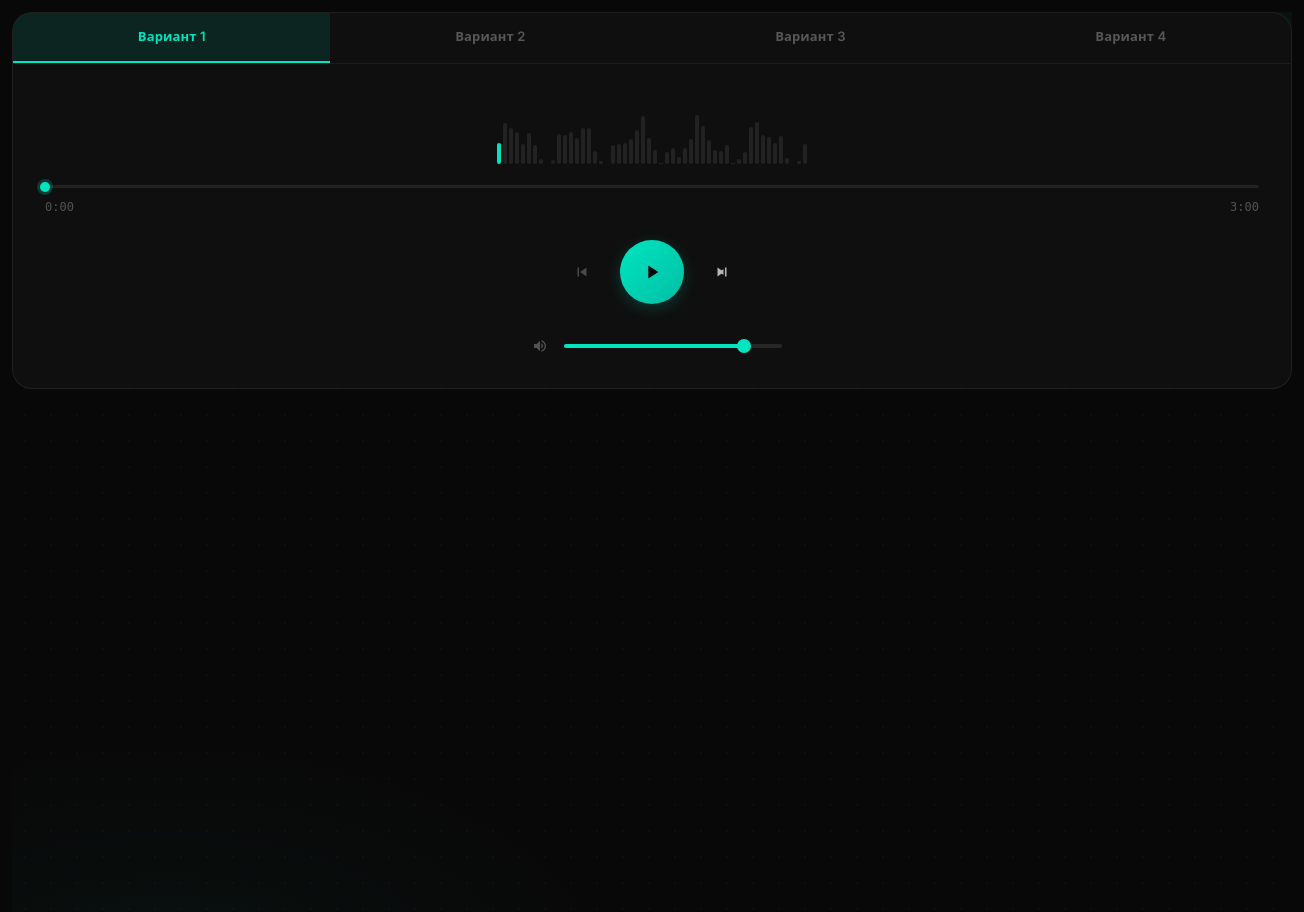
Scenario: MusicPlayer › переключает play/pause по кнопке воспроизведения
Click the button named "Воспроизвести" at (652,272), box left=620, top=240, right=684, bottom=304
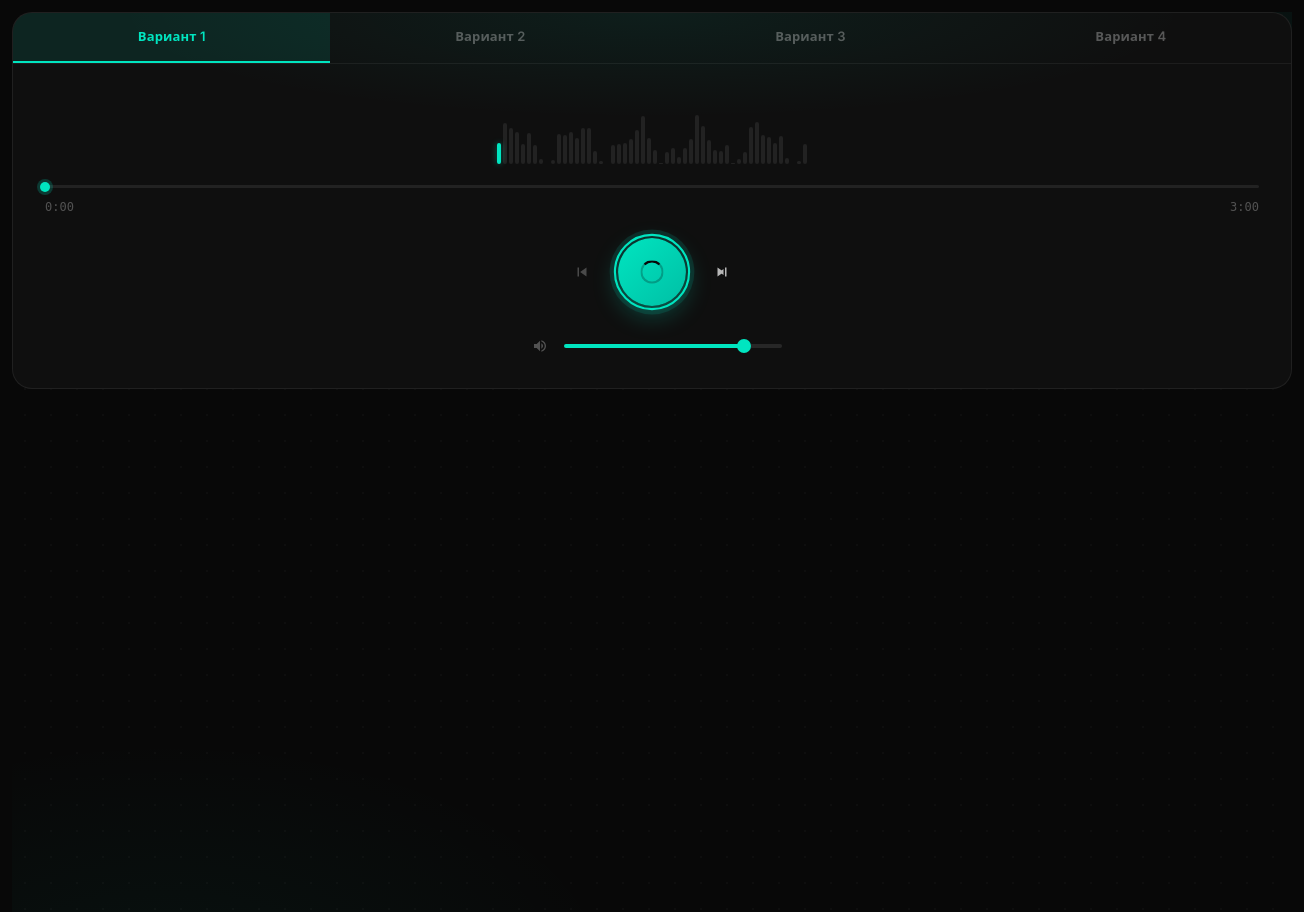
Check: the button named "Пауза" is shown
Click the button named "Пауза" at (652,272), box left=618, top=238, right=686, bottom=305
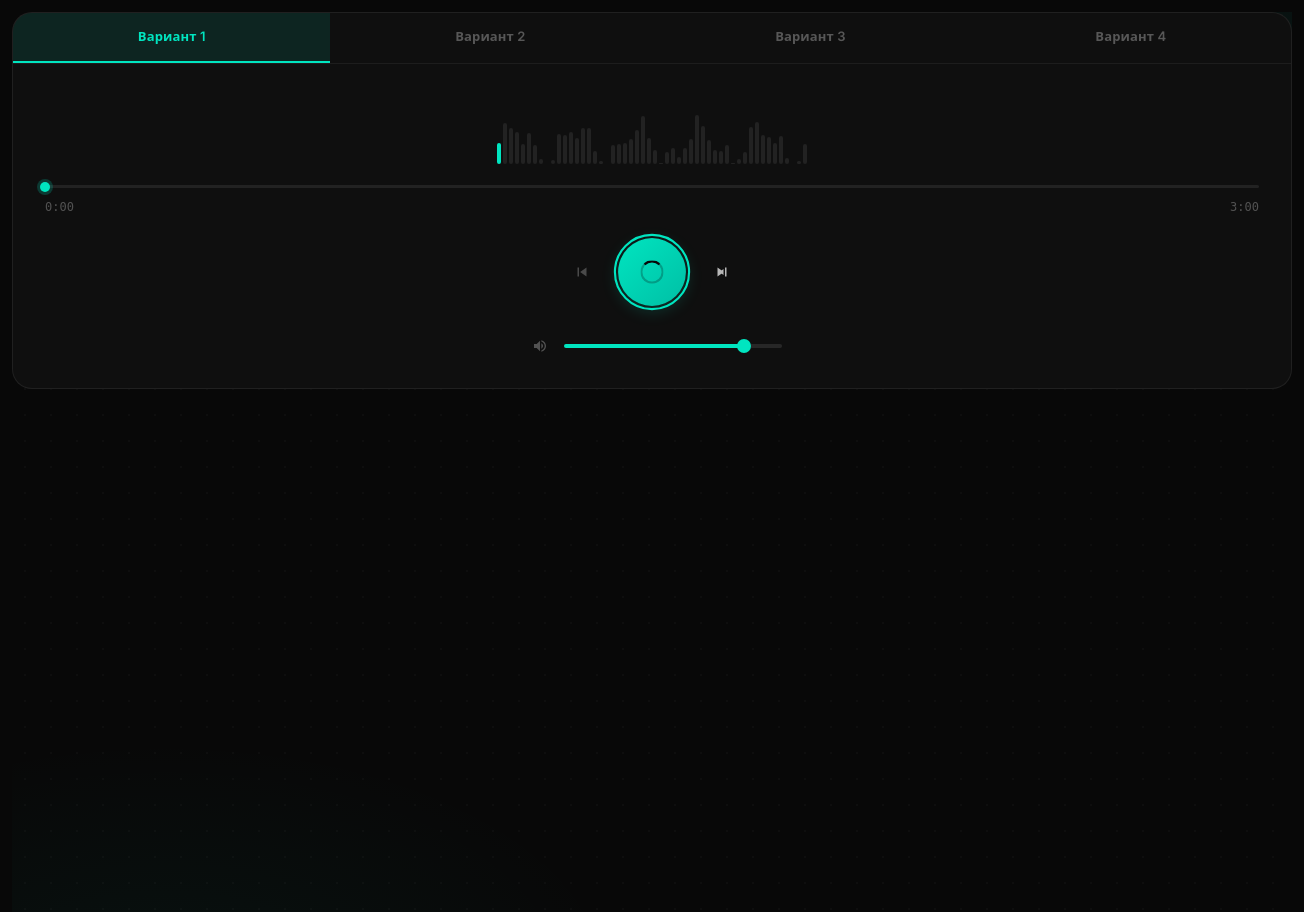
Check: the button named "Воспроизвести" is shown, box left=618, top=238, right=686, bottom=305
